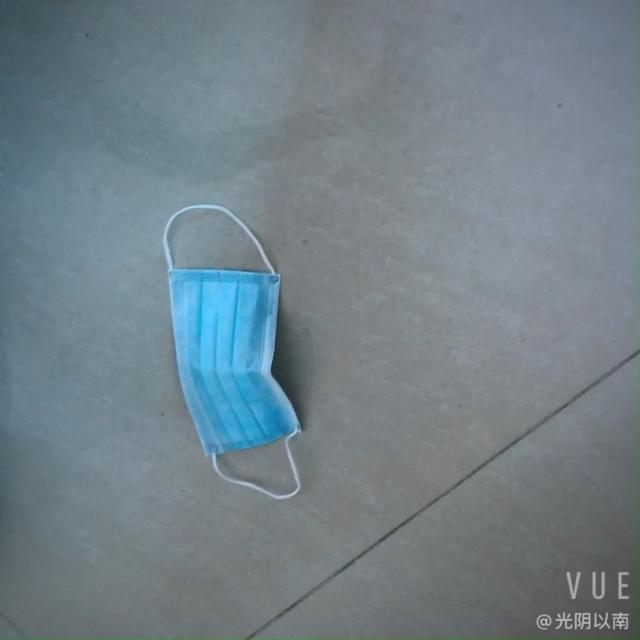non-organic waste: (177, 195, 298, 492)
